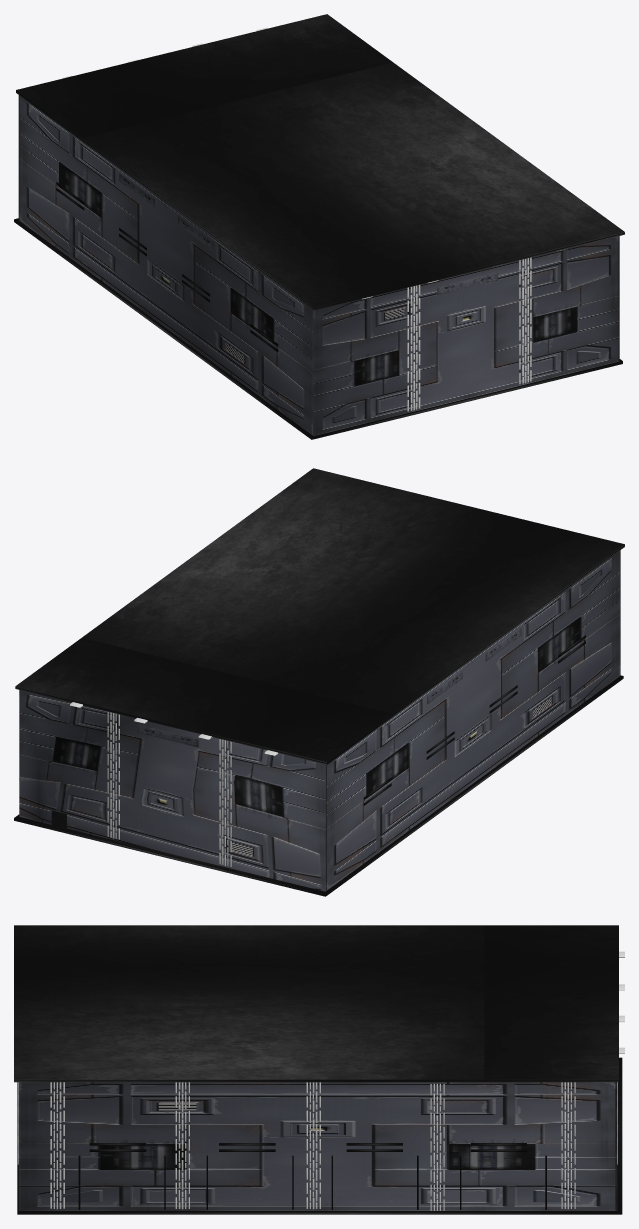
The model's file is Habitaciolvl1-2.0.fbx.
3 views of the same model, one above another, from view 1: azimuth 30°, elevation 25°; view 2: azimuth 150°, elevation 25°; view 3: azimuth 270°, elevation 25° (orthographic).
Parts seen in each view (by area): view 1: Cube, Cubo, Cubo_017, Cubo_009, Cubo_008, Cubo_170; view 2: Cube, Cubo, Cubo_017, Cubo_007, Cubo_006, Cubo_170; view 3: Cube, Cubo, Cubo_017, Cubo_170, Cubo_012, Cubo_011, Cubo_056, Cubo_013, Cubo_014.
Part boxes in pixels (<box>): Cube: <box>16,14,624,310</box>; Cubo: <box>18,95,619,435</box>; Cubo_017: <box>14,218,622,439</box>; Cubo_009: <box>407,284,420,411</box>; Cubo_008: <box>519,257,531,384</box>; Cubo_170: <box>56,182,278,352</box>; Cube: <box>15,468,624,764</box>; Cubo: <box>19,550,620,891</box>; Cubo_017: <box>14,675,623,896</box>; Cubo_007: <box>219,739,231,866</box>; Cubo_006: <box>107,711,119,839</box>; Cubo_170: <box>363,635,585,805</box>; Cube: <box>14,925,618,1082</box>; Cubo: <box>18,1082,617,1210</box>; Cubo_017: <box>17,1057,622,1214</box>; Cubo_170: <box>89,1143,526,1151</box>; Cubo_012: <box>306,1082,320,1209</box>; Cubo_011: <box>175,1082,189,1209</box>; Cubo_056: <box>50,1082,64,1209</box>; Cubo_013: <box>430,1083,444,1210</box>; Cubo_014: <box>561,1082,575,1209</box>.
Bounding box in the file's own units: 61.04 × 24.91 × 102.
